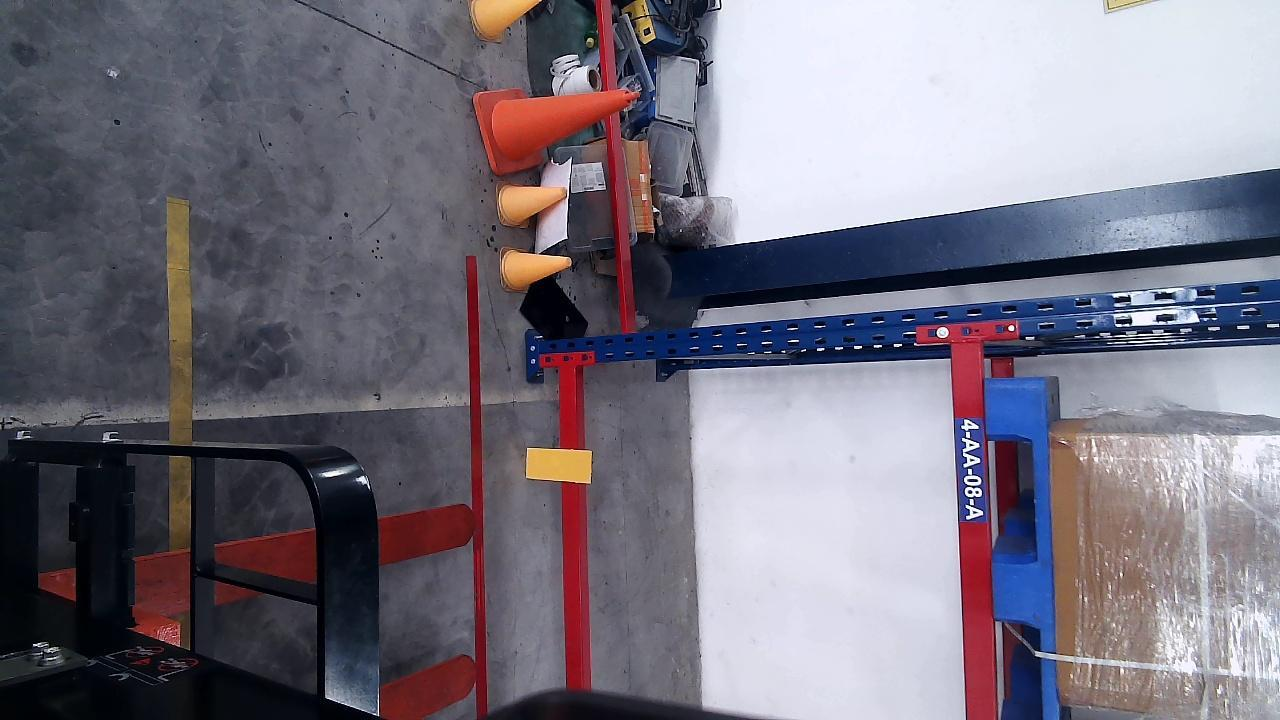h_rack: (951, 337, 1000, 717), (558, 362, 593, 686)
orange_strip: (525, 447, 592, 487)
red_line: (466, 255, 488, 715)
small_pallet: (990, 383, 1059, 719)
yellow_line: (167, 200, 193, 545)
